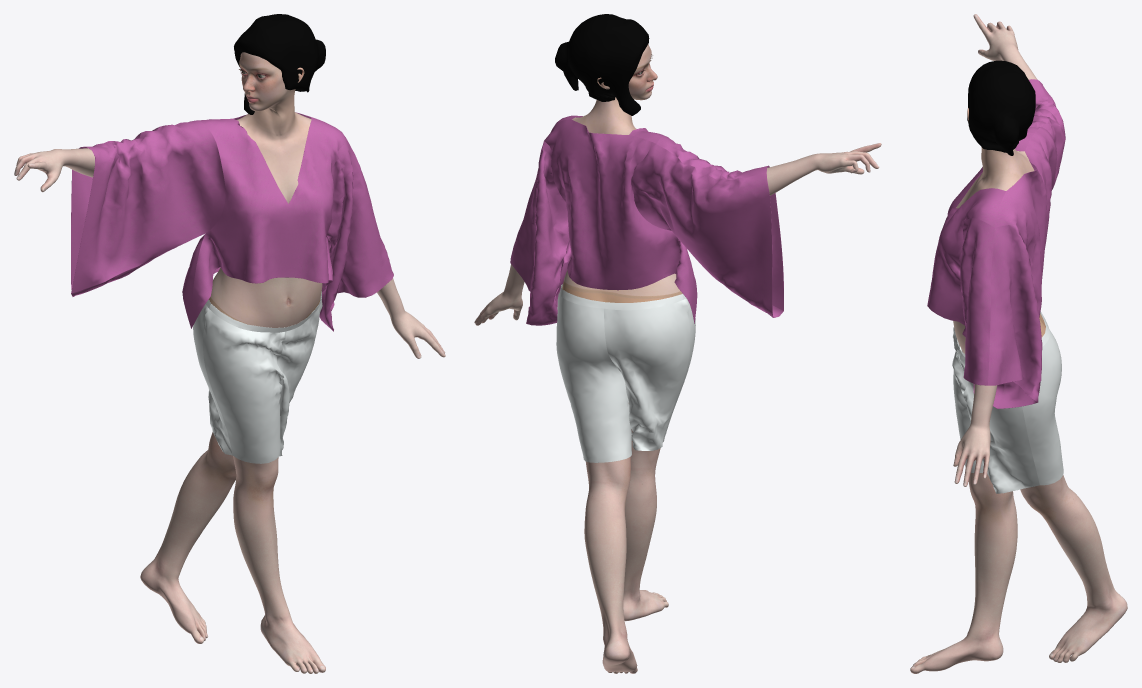
File: Custom_View_0__Dynamic.obj
The picture shows the model from 3 angles, left to right: view 1: azimuth 30°, elevation 25°; view 2: azimuth 150°, elevation 25°; view 3: azimuth 270°, elevation 25°; orthographic projection. The views are drawn at different scales.
Size of the model in its own units: 1226 by 1775 by 569.
